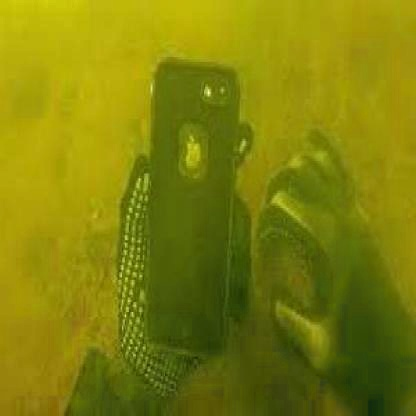cellphone: (148, 64, 237, 354)
